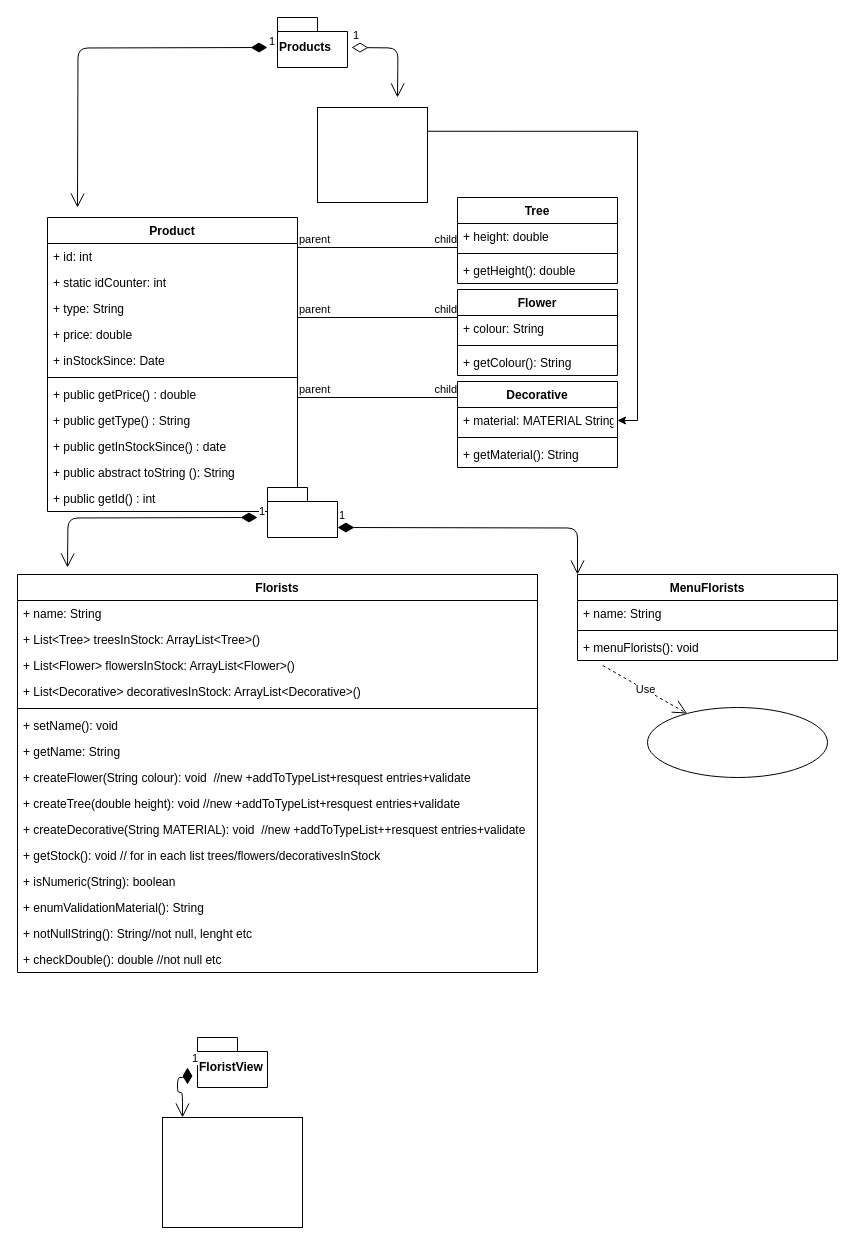
This 855x1245 diagram has some shape labels left out. Here are the shapes that lost their labels. From the top down, the centre of each, then its label:
At (372,154): "<Enum> MATERIAL Wooden Plastic".
At (302,512): "Controller".
At (737,742): "Use Case: switch Option list".
At (232,1172): "main MenuFlorist mf mf.menuFlorist()".
